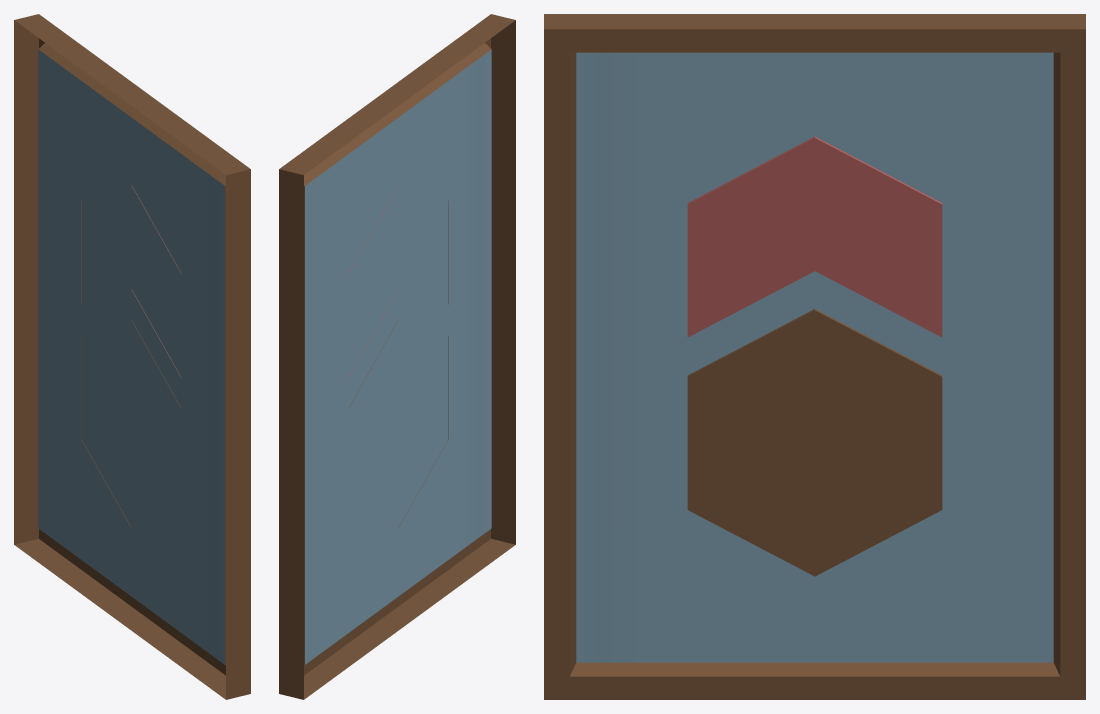
File: Bedroom_Picture_3.fbx
The picture shows the model from 3 angles, left to right: view 1: azimuth 30°, elevation 25°; view 2: azimuth 150°, elevation 25°; view 3: azimuth 270°, elevation 25°; orthographic projection. The views are drawn at different scales.
Visible parts, largest first — view 1: Bedroom_Picture_3; view 2: Bedroom_Picture_3; view 3: Bedroom_Picture_3.
Part boxes in pixels (x1,y1,x2,y2): Bedroom_Picture_3: (14,14,250,699); Bedroom_Picture_3: (279,14,515,699); Bedroom_Picture_3: (544,14,1085,699).
Size of the model in its own units: 5.63 by 114 by 83.46.
